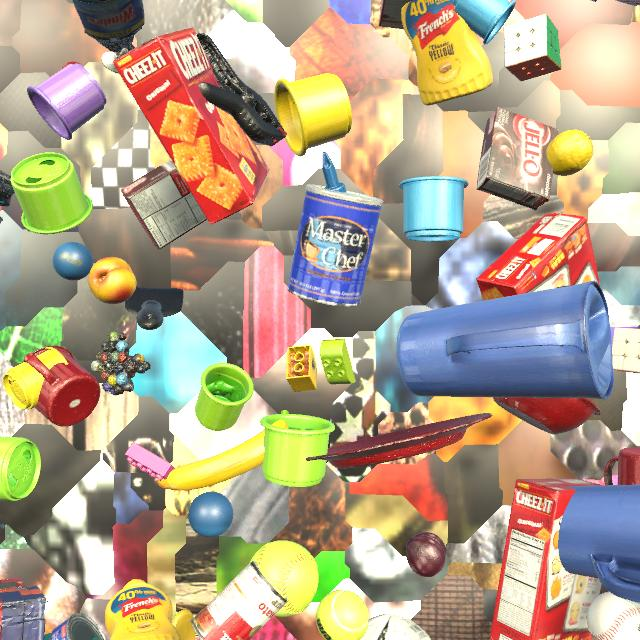ycb_002_master_chef_can: (286, 184, 383, 307)
ycb_003_cracker_box: (113, 28, 269, 224), (490, 478, 601, 640), (476, 213, 600, 301)
ycb_005_tomato_soup_can: (191, 561, 288, 640)
ycb_006_mustard_bottle: (401, 0, 493, 105), (105, 579, 181, 640)
ycb_007_tuna_fish_can: (49, 613, 107, 640), (0, 216, 3, 224)
ycb_008_pudding_box: (477, 107, 558, 210), (121, 160, 207, 250)
ycb_009_gelatin_box: (379, 0, 413, 29)
ycb_011_banana: (158, 410, 289, 491)
ycb_014_lemon: (546, 130, 593, 176)
ycb_015_peach: (88, 257, 136, 304)
ycb_018_plum: (406, 532, 446, 577), (556, 285, 569, 288)
